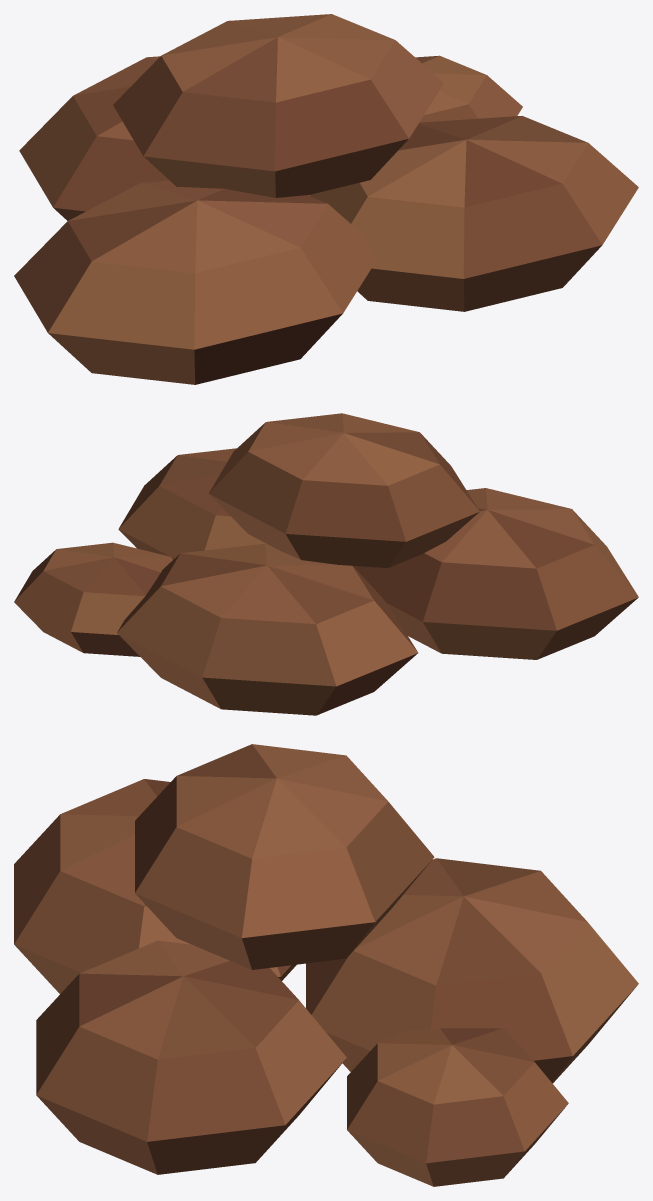
File: storage_clay.glb
3 views of the same model, one above another, from view 1: azimuth 30°, elevation 25°; view 2: azimuth 150°, elevation 25°; view 3: azimuth 270°, elevation 25° (orthographic). The views are drawn at different scales.
Visible parts, largest first — view 1: storage_clay; view 2: storage_clay; view 3: storage_clay.
Part boxes in pixels (left/top/right/bottom): storage_clay: left=14, top=14, right=638, bottom=384; storage_clay: left=14, top=413, right=638, bottom=715; storage_clay: left=14, top=744, right=638, bottom=1186.
Size of the model in its own units: 1.33 by 0.5435 by 1.07.
